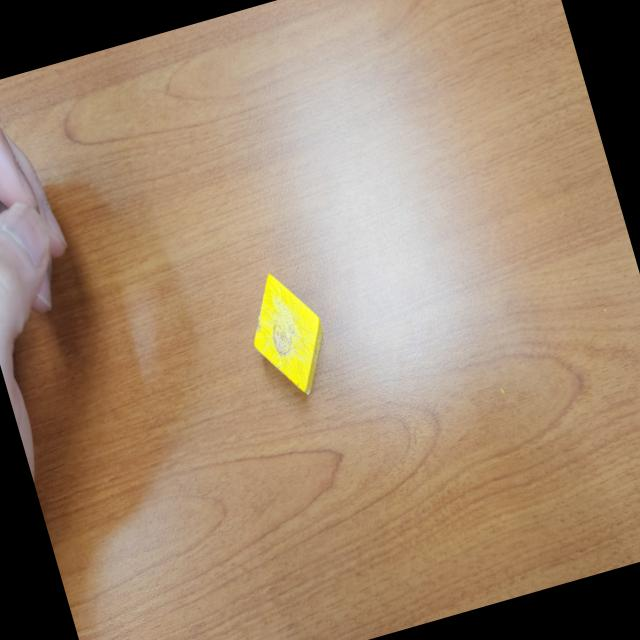broken: (238, 264, 338, 407)
